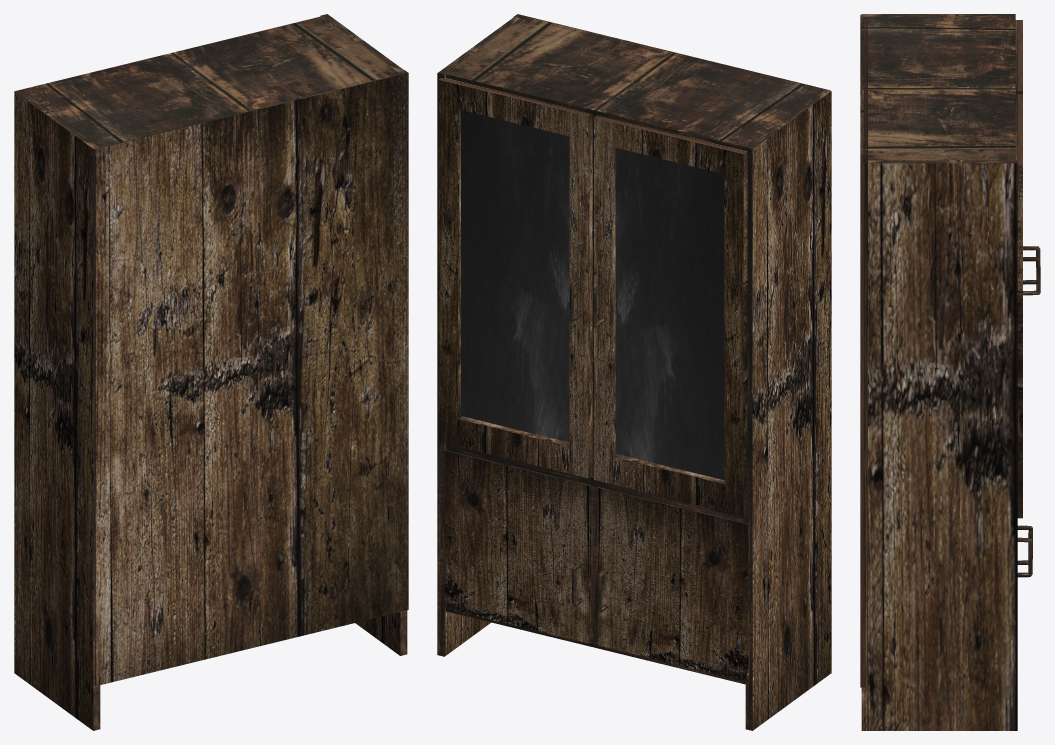
The model's file is Closets1.fbx.
The picture shows the model from 3 angles, left to right: view 1: azimuth 30°, elevation 25°; view 2: azimuth 150°, elevation 25°; view 3: azimuth 270°, elevation 25°; orthographic projection. The views are drawn at different scales.
Parts seen in each view (by area): view 1: CupBoard Body.001; view 2: CupBoard Body.001, Upper_Left_Door.000, Upper_Left_Door.001, Lower_Right_Door, Lower_Right_Door.001; view 3: CupBoard Body.001, Upper_Left_Door.000, Upper_Left_Door.001.
Boxes of the visible parts, box(x1,y1,x2,y2) form: CupBoard Body.001: box(14, 14, 408, 730); CupBoard Body.001: box(437, 14, 831, 730); Upper_Left_Door.000: box(438, 77, 592, 478); Upper_Left_Door.001: box(592, 115, 747, 516); Lower_Right_Door: box(597, 487, 749, 682); Lower_Right_Door.001: box(444, 450, 590, 643); CupBoard Body.001: box(860, 14, 1017, 730); Upper_Left_Door.000: box(1015, 94, 1040, 518); Upper_Left_Door.001: box(1015, 20, 1040, 284).
Bounding box in the file's own units: 494 × 873 × 251.
